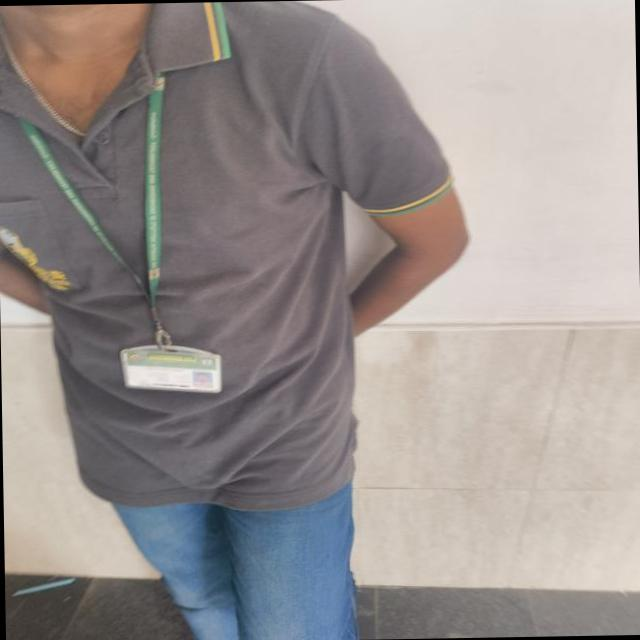id_card: (15, 51, 223, 394)
